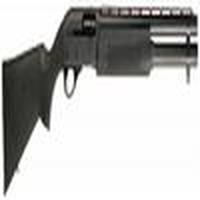gun: (1, 6, 197, 188)
